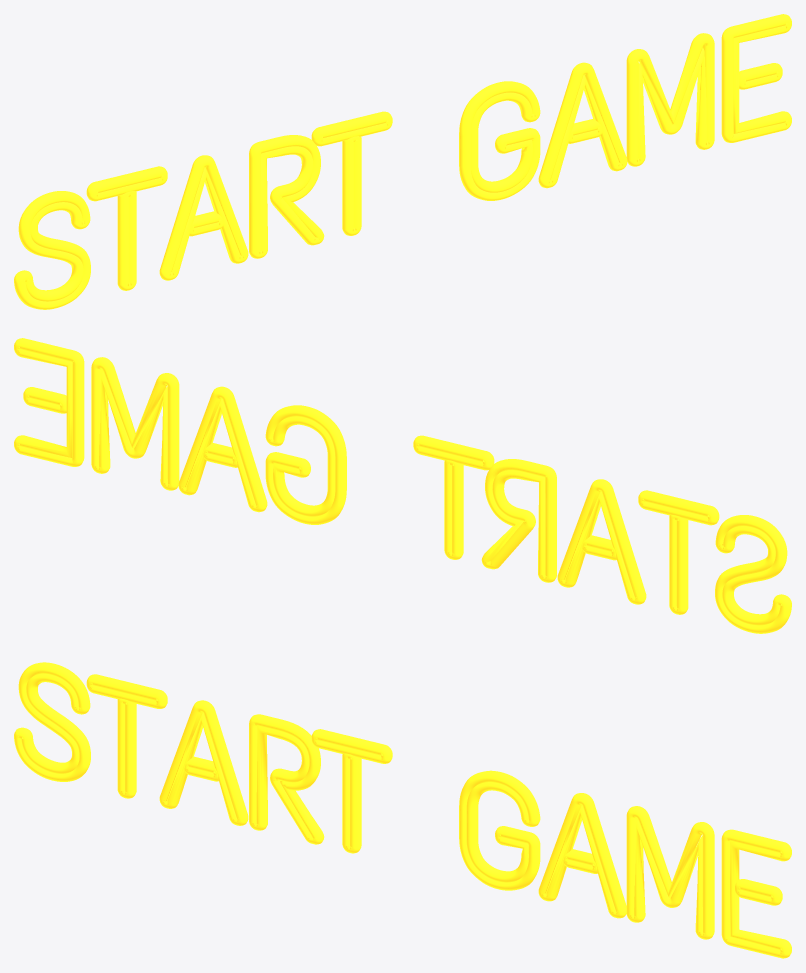
File: STARTGAMETextNeon.fbx
3 views of the same model, one above another, from view 1: azimuth 30°, elevation 25°; view 2: azimuth 150°, elevation 25°; view 3: azimuth 330°, elevation 25° (orthographic).
Visible parts, largest first — view 1: Text; view 2: Text; view 3: Text.
Part boxes in pixels (<box>): Text: <box>14,14,791,309</box>; Text: <box>14,338,791,633</box>; Text: <box>14,662,791,958</box>.
Bounding box in the file's own units: 4.46 × 0.639 × 0.06.
